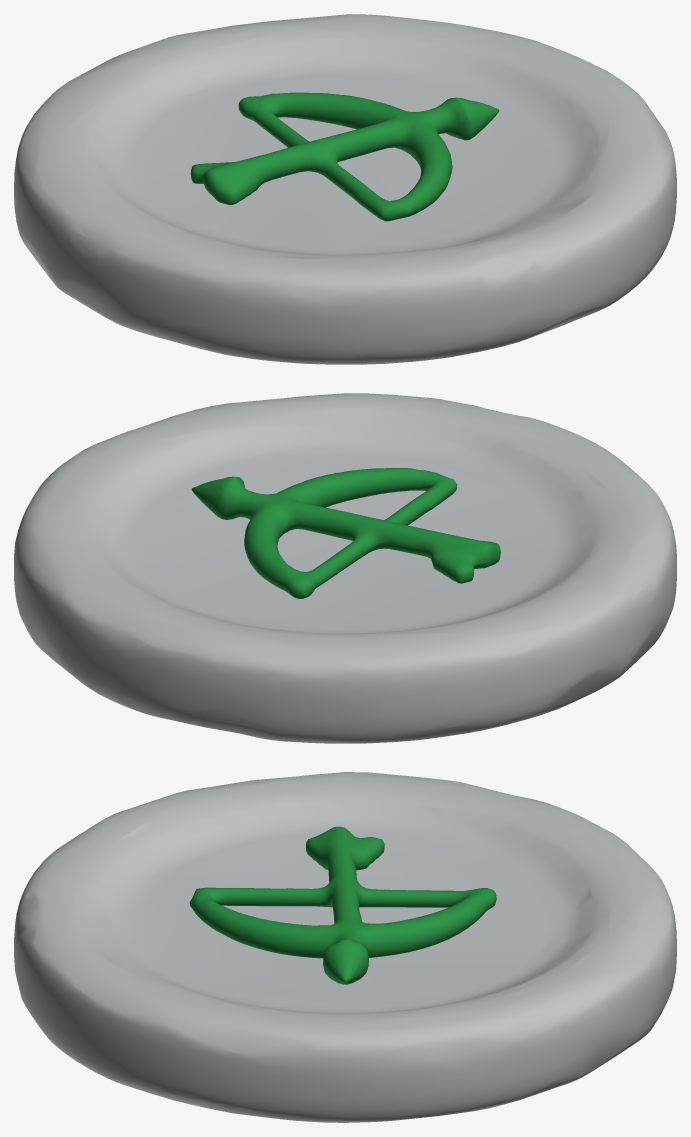
File: token-archer-blue.glb
3 views of the same model, one above another, from view 1: azimuth 30°, elevation 25°; view 2: azimuth 150°, elevation 25°; view 3: azimuth 270°, elevation 25° (orthographic).
Parts seen in each view (by area): view 1: token_archer_blue; view 2: token_archer_blue; view 3: token_archer_blue.
Boxes of the visible parts, x1,y1,x2,y2 form: token_archer_blue: (14, 14, 676, 364); token_archer_blue: (14, 393, 676, 743); token_archer_blue: (14, 772, 676, 1122).
Bounding box in the file's own units: 0.4139 × 0.0746 × 0.414.
